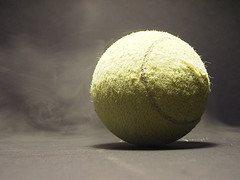tennis ball: (91, 28, 211, 148)
